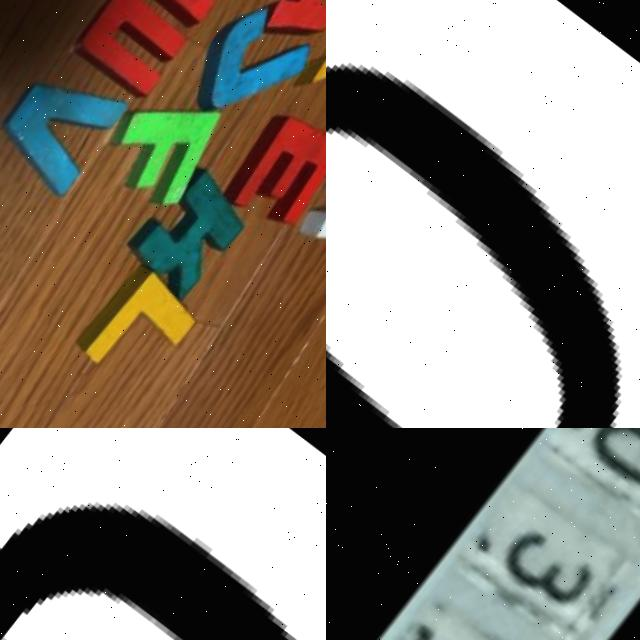0: (569, 428, 640, 507)
3: (494, 510, 614, 619)
C: (0, 505, 299, 640)
E: (224, 103, 326, 239)
F: (94, 73, 240, 216)
H: (295, 122, 326, 268)
J: (169, 0, 324, 141)
K: (121, 158, 264, 307)
L: (74, 255, 217, 402)
O: (326, 61, 629, 428)
V: (0, 53, 140, 199)
W: (67, 0, 223, 100)
X: (296, 0, 326, 113)
